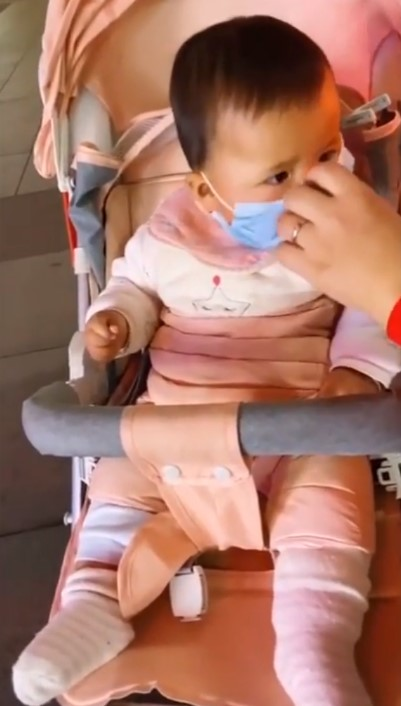face_with_mask: (172, 13, 366, 249)
